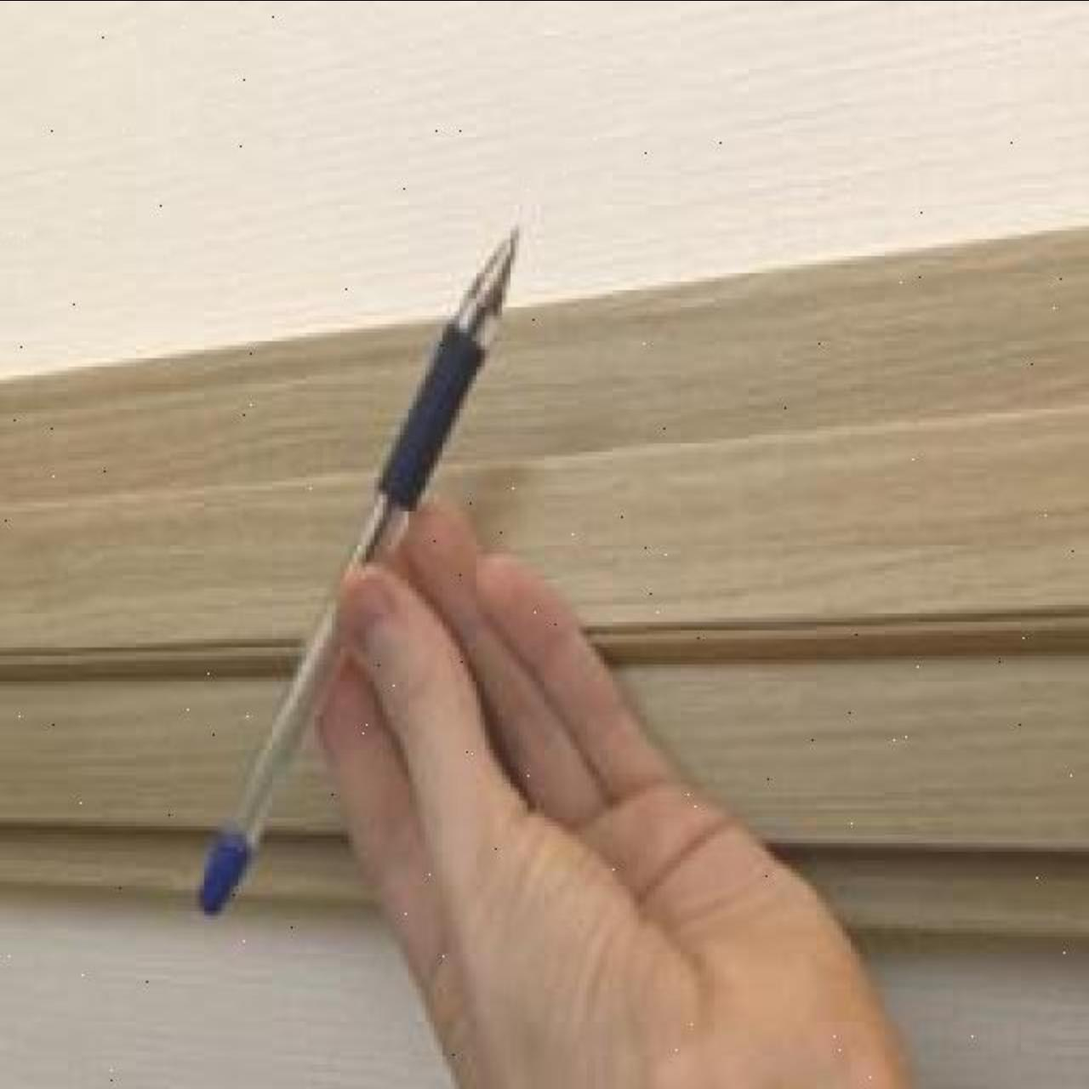pen: (192, 220, 524, 914)
